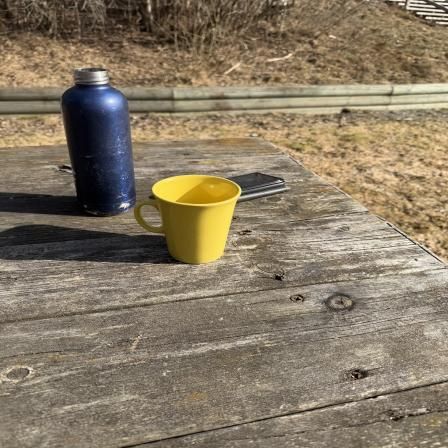blue_bottle: (62, 66, 139, 215)
phone: (216, 171, 295, 201)
yellow_cup: (138, 175, 242, 269)
